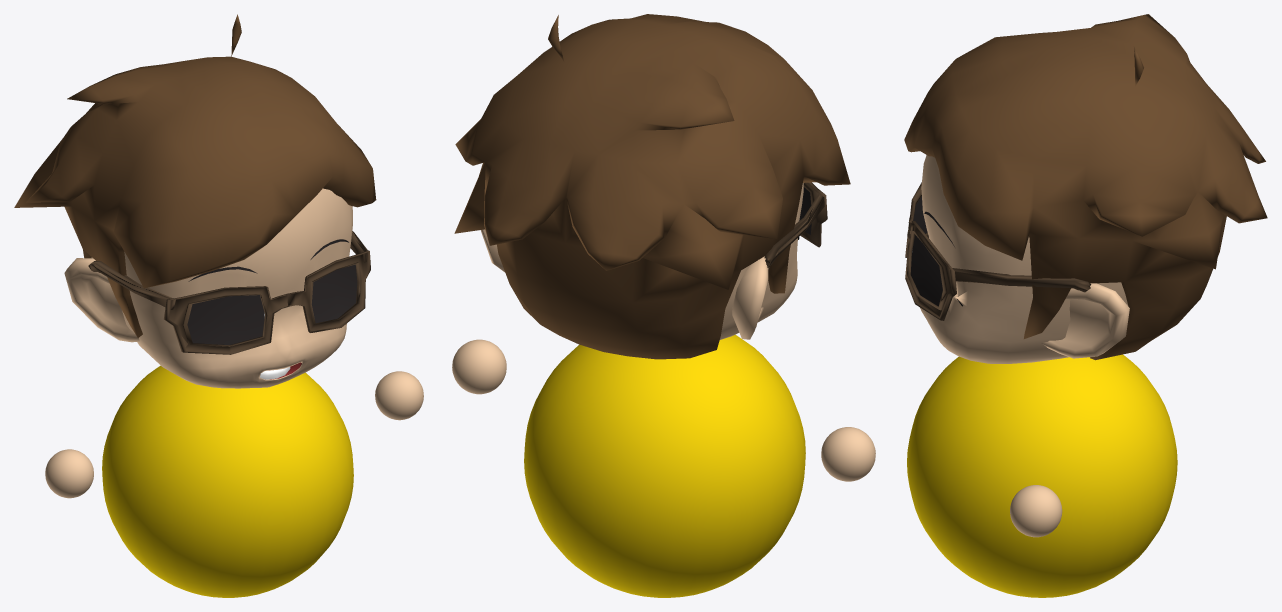
File: happy.glb
3 views of the same model, side by side, from view 1: azimuth 30°, elevation 25°; view 2: azimuth 150°, elevation 25°; view 3: azimuth 270°, elevation 25° (orthographic). The views are drawn at different scales.
Parts seen in each view (by area): view 1: zizo_cool, zizo_cool.hair, zizo_cool.skin, left.skin.hand, right.skin.hand; view 2: zizo_cool.hair, zizo_cool, zizo_cool.skin, right.skin.hand, left.skin.hand; view 3: zizo_cool.hair, zizo_cool, zizo_cool.skin, right.skin.hand.
Boxes of the visible parts, x1,y1,x2,y2 form: zizo_cool: [88, 231, 370, 597]; zizo_cool.hair: [14, 14, 376, 337]; zizo_cool.skin: [64, 188, 352, 388]; left.skin.hand: [45, 449, 93, 498]; right.skin.hand: [375, 371, 423, 420]; zizo_cool.hair: [454, 14, 850, 359]; zizo_cool: [524, 182, 827, 597]; zizo_cool.skin: [480, 183, 803, 339]; right.skin.hand: [452, 339, 506, 394]; left.skin.hand: [821, 427, 875, 481]; zizo_cool.hair: [904, 14, 1267, 360]; zizo_cool: [905, 182, 1177, 597]; zizo_cool.skin: [920, 155, 1129, 363]; right.skin.hand: [1010, 485, 1062, 537].
Bounding box in the file's own units: 0.3396 × 0.4605 × 0.2678.
1 material, 1 textured.
